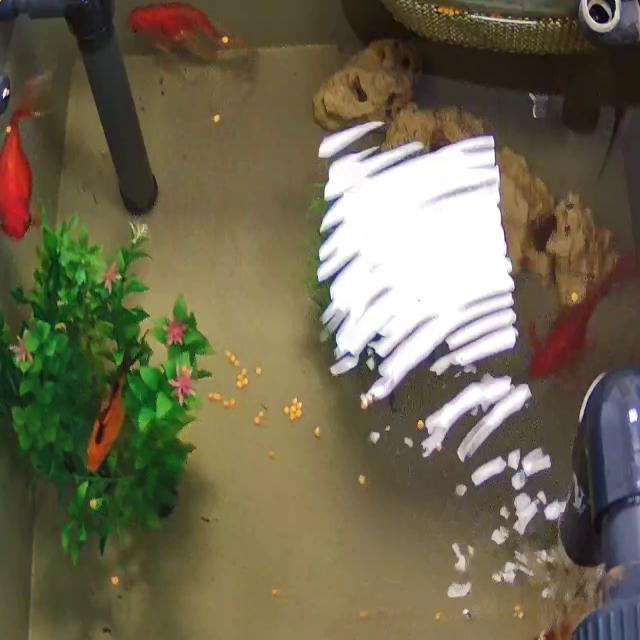fish: (523, 253, 640, 379), (129, 1, 252, 67), (0, 111, 35, 240)
